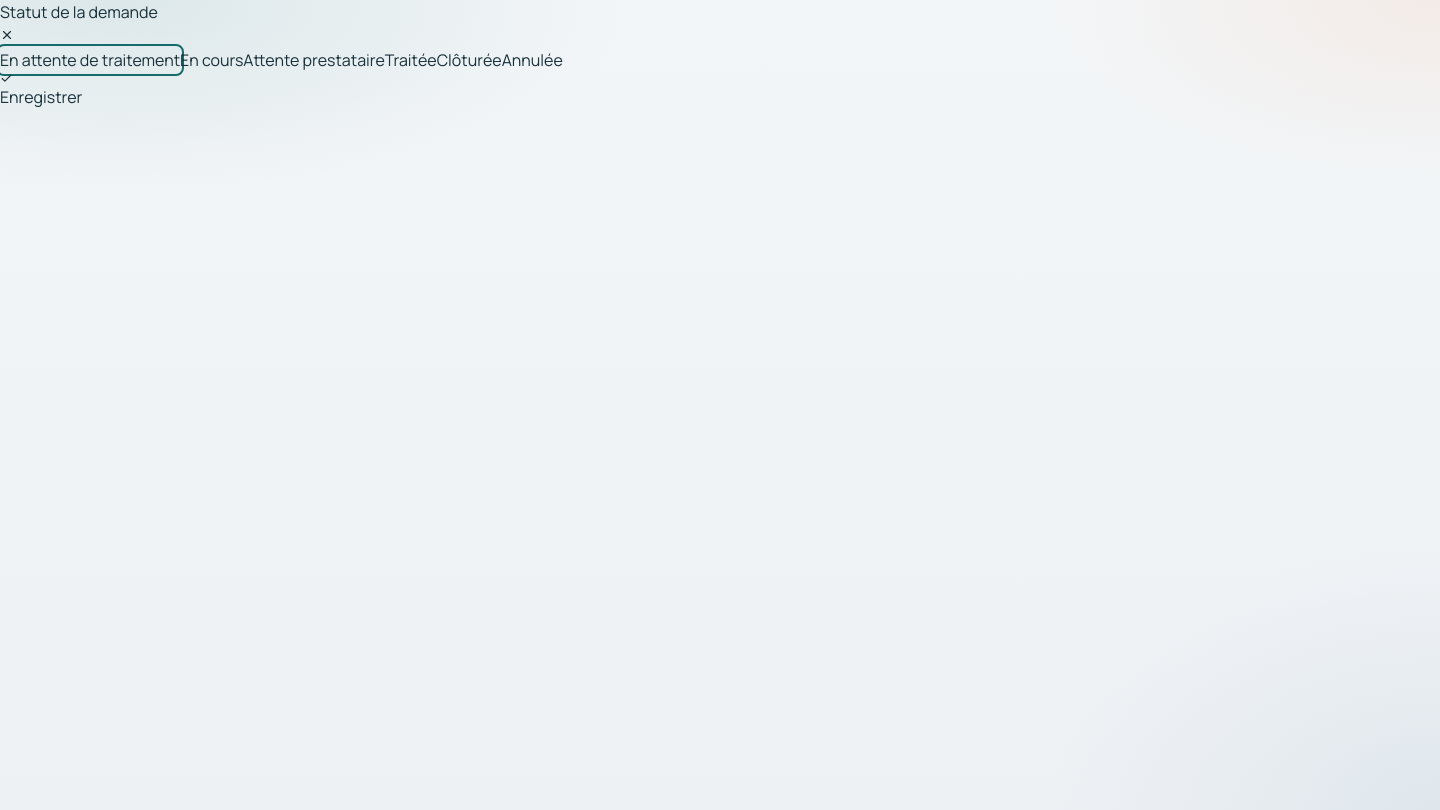
Test: CrmStatusModal › affiche l’échec de l’écriture au lieu de fermer sur une erreur avalée
Click the button "Clôturée" at (469, 60), box [437,48,502,72]
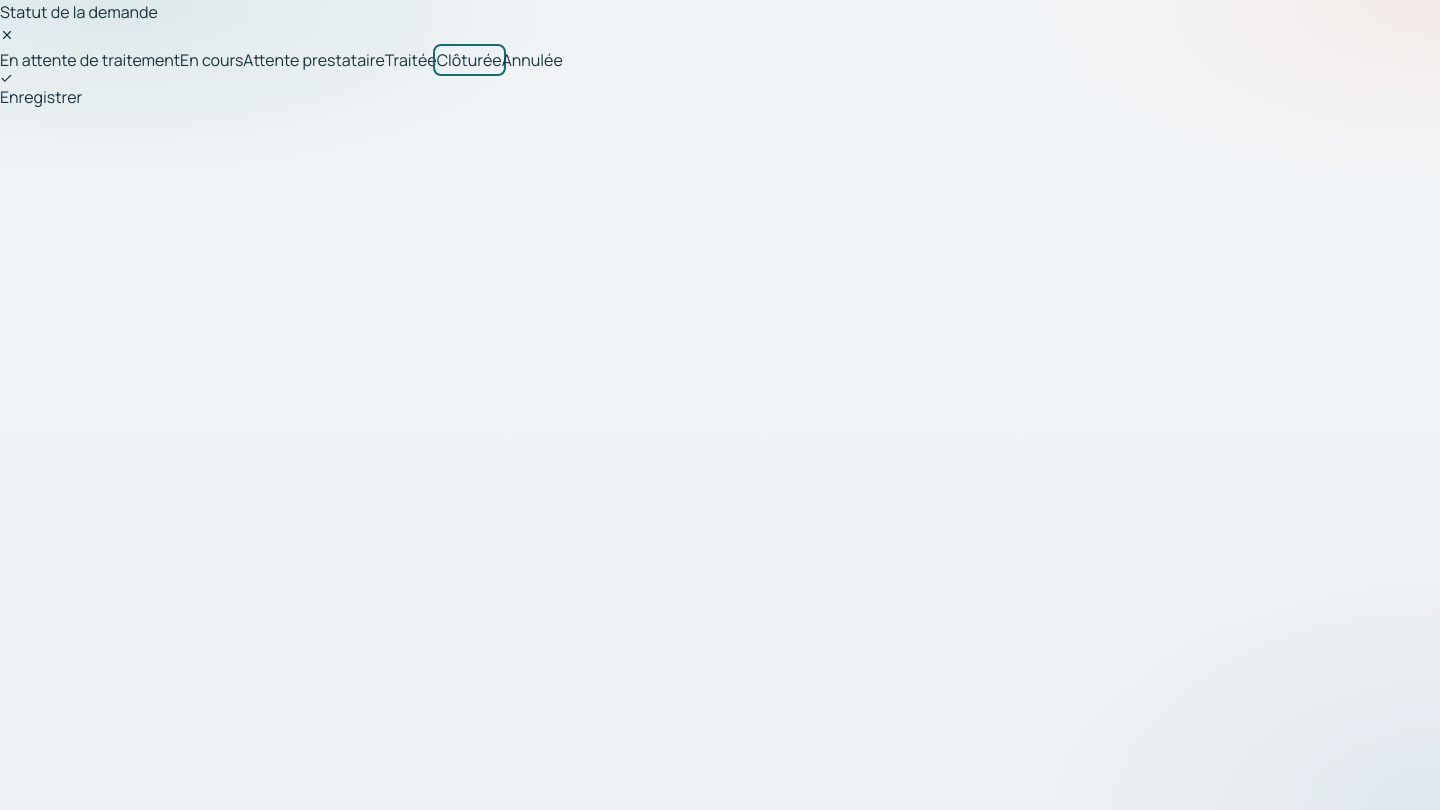
Click the button "Enregistrer" at (41, 90), box [0,72,82,109]
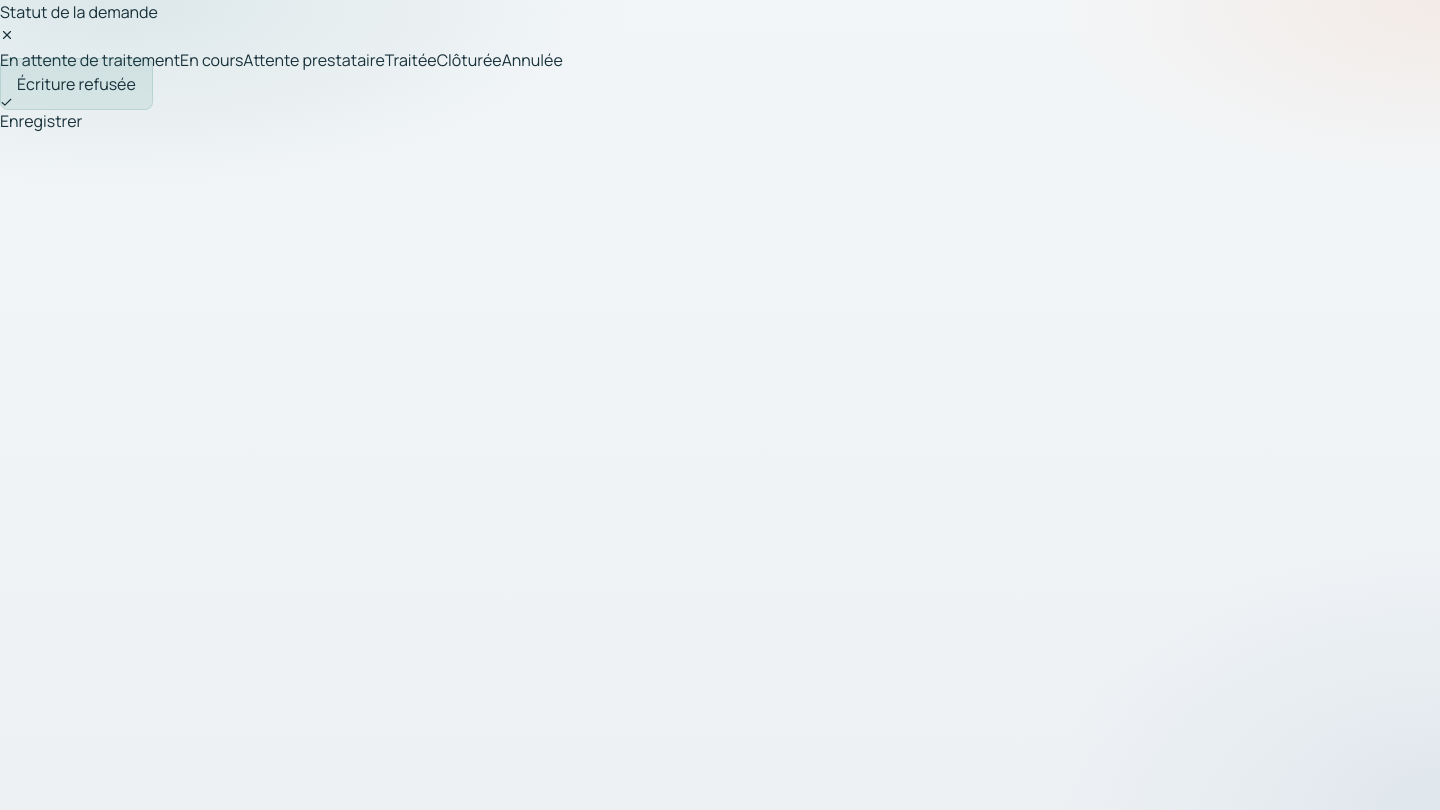
Check: the text "Écriture refusée" is shown, box [0,58,153,110]
